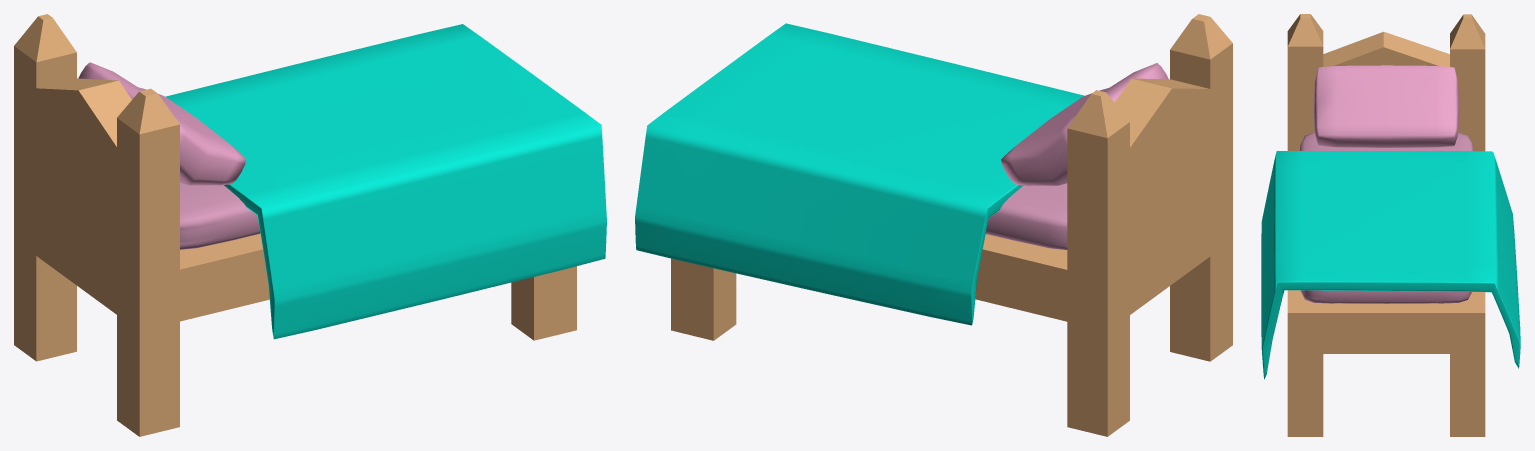
The model's file is bed.fbx.
3 renders of one model, left to right at view 1: azimuth 30°, elevation 25°; view 2: azimuth 150°, elevation 25°; view 3: azimuth 270°, elevation 25°, orthographic. The views are drawn at different scales.
Parts seen in each view (by area): view 1: pCube4, pCube2, pCube3, pCube1; view 2: pCube4, pCube2, pCube3, pCube1; view 3: pCube4, pCube2, pCube3, pCube1.
Part boxes in pixels (x1,y1,x2,y2): pCube4: (166,24,606,339); pCube2: (14,14,576,436); pCube3: (78,62,246,185); pCube1: (180,183,260,249); pCube4: (635,23,1084,325); pCube2: (671,14,1232,436); pCube3: (1001,63,1168,185); pCube1: (985,183,1067,249); pCube4: (1261,151,1520,379); pCube2: (1287,14,1485,436); pCube3: (1313,65,1459,147); pCube1: (1300,132,1473,303).
Bounding box in the file's own units: 7.63 × 5.31 × 4.79.
